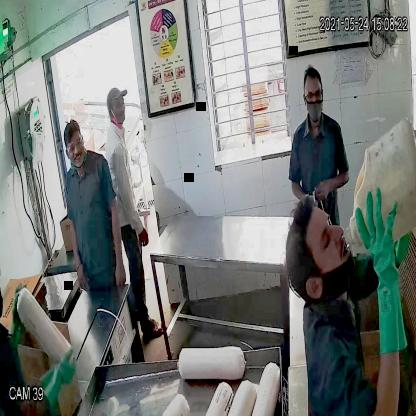goggles: (300, 85, 328, 105), (63, 135, 86, 157)
no_goggles: (318, 203, 336, 283)
